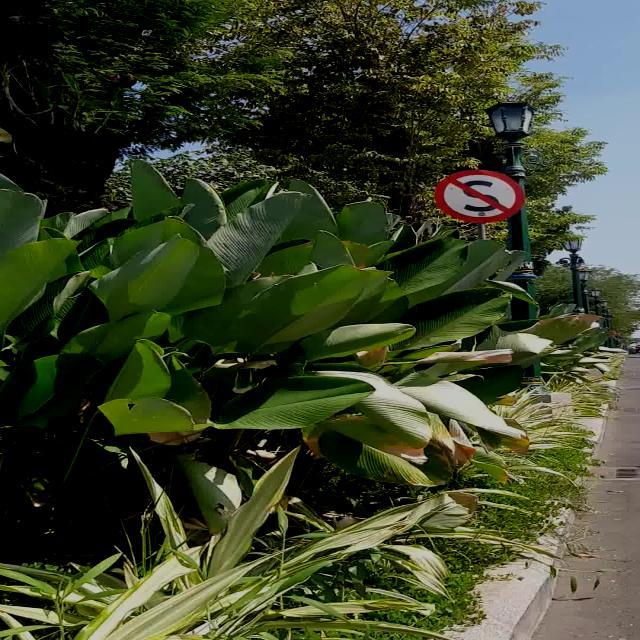Dilarang Berhenti: (435, 170, 524, 223)
